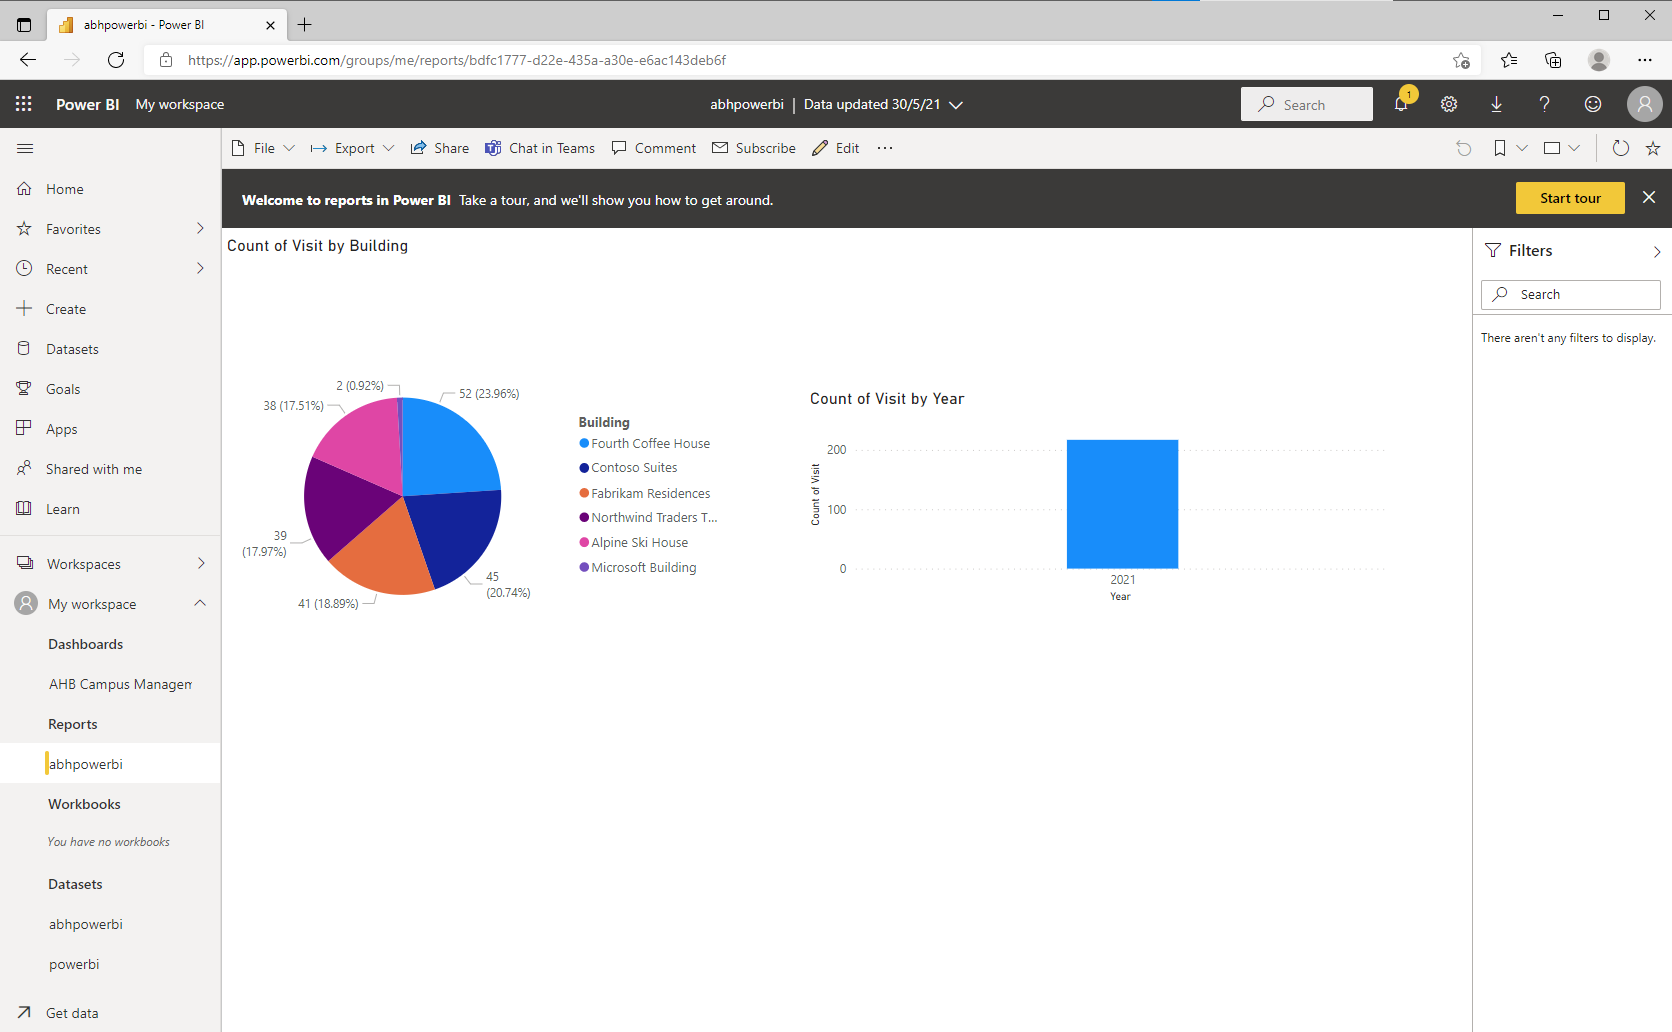

The dashboard page shown, as its layout file describes it:
{"tool":"powerbi","page":{"name":"Page 1","canvas":[1280,720],"ordinal":0},"visuals":[{"type":"pieChart","fields":{"Category":["bc_Visit.Building"],"Y":["CountNonNull(bc_Visit.Visit)"]},"box":[0,7.3,525.1,515.7],"z":0},{"type":"columnChart","fields":{"Y":["CountNonNull(bc_Visit.Visit)"],"Category":["bc_Visit.Start.Variation.Date Hierarchy.Year","bc_Visit.Start.Variation.Date Hierarchy.Month"]},"box":[596.8,164.3,598.9,223.6],"z":1}]}

Visuals, with their boxes on the page's 1280x720 design canvas (x1, y1, x2, y2). These are canvas units, not pixel positions in the 1672x1032 screenshot, which may show the page scaled, cropped or inside an application window:
pieChart - bc_Visit.Building x CountNonNull(bc_Visit.Visit): x1=0 y1=7 x2=525 y2=523
columnChart - CountNonNull(bc_Visit.Visit) x bc_Visit.Start.Variation.Date Hierarchy.Year: x1=597 y1=164 x2=1196 y2=388
